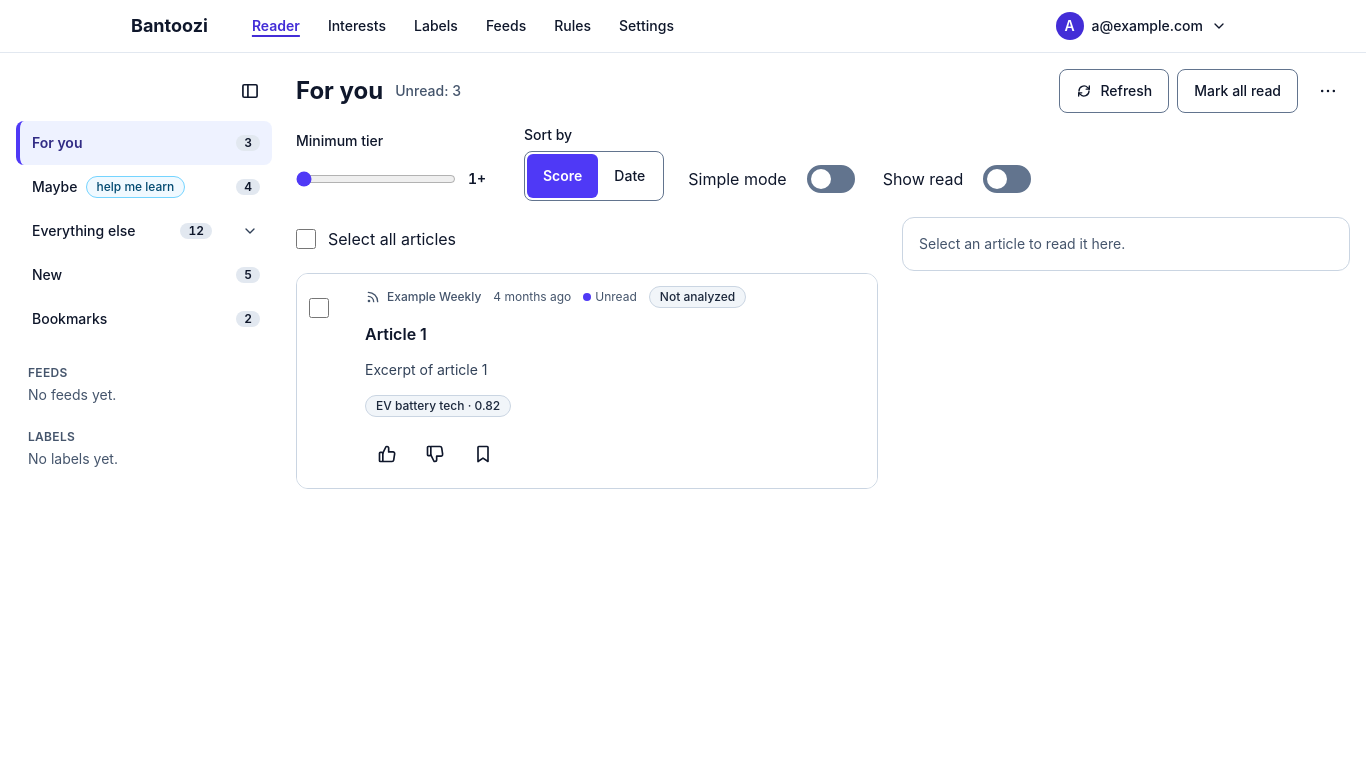
Test: Mark all read › does nothing when the reader cancels
Expected: the element "Article 1" is shown, [296,273,878,489]
Click the button "Mark all read" at (1238, 91), box [1177,69,1298,113]
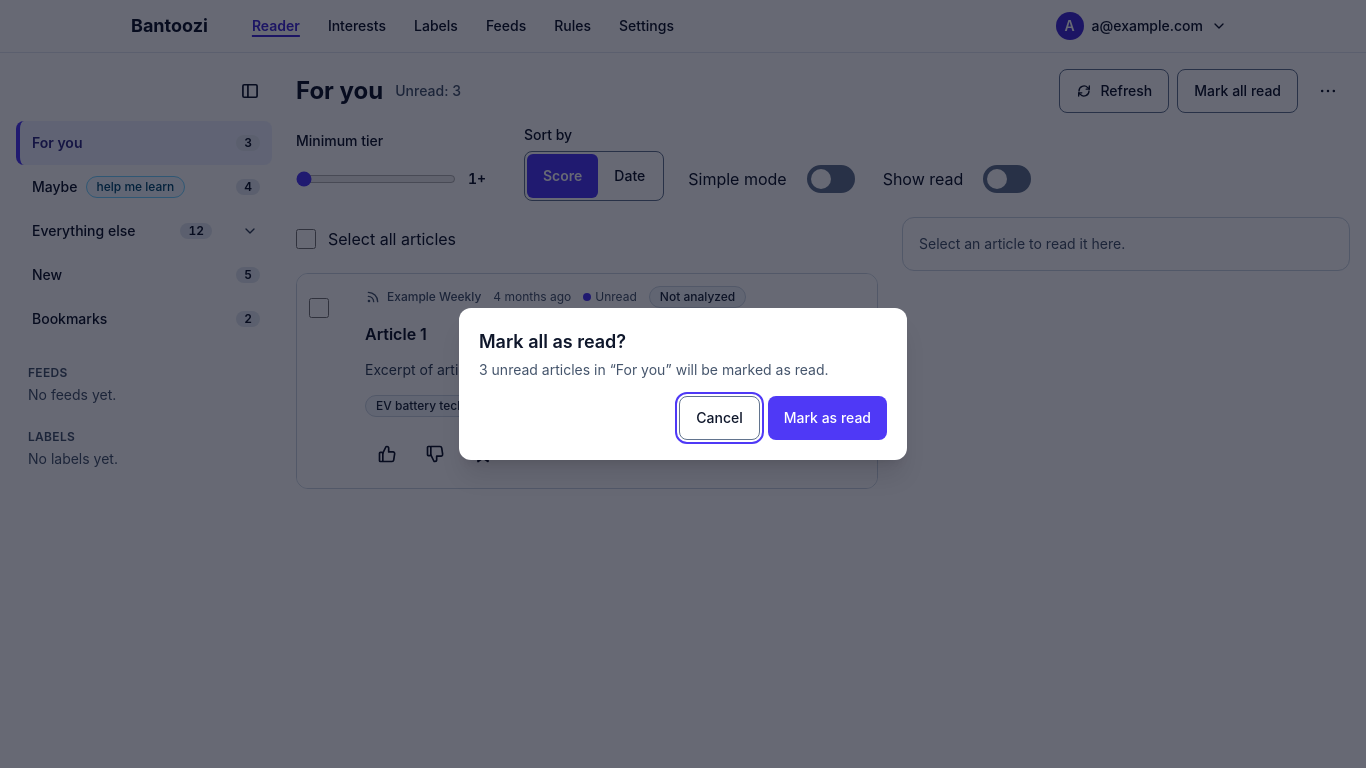
Click the button "Cancel" at (720, 418), box [679,396,760,440]
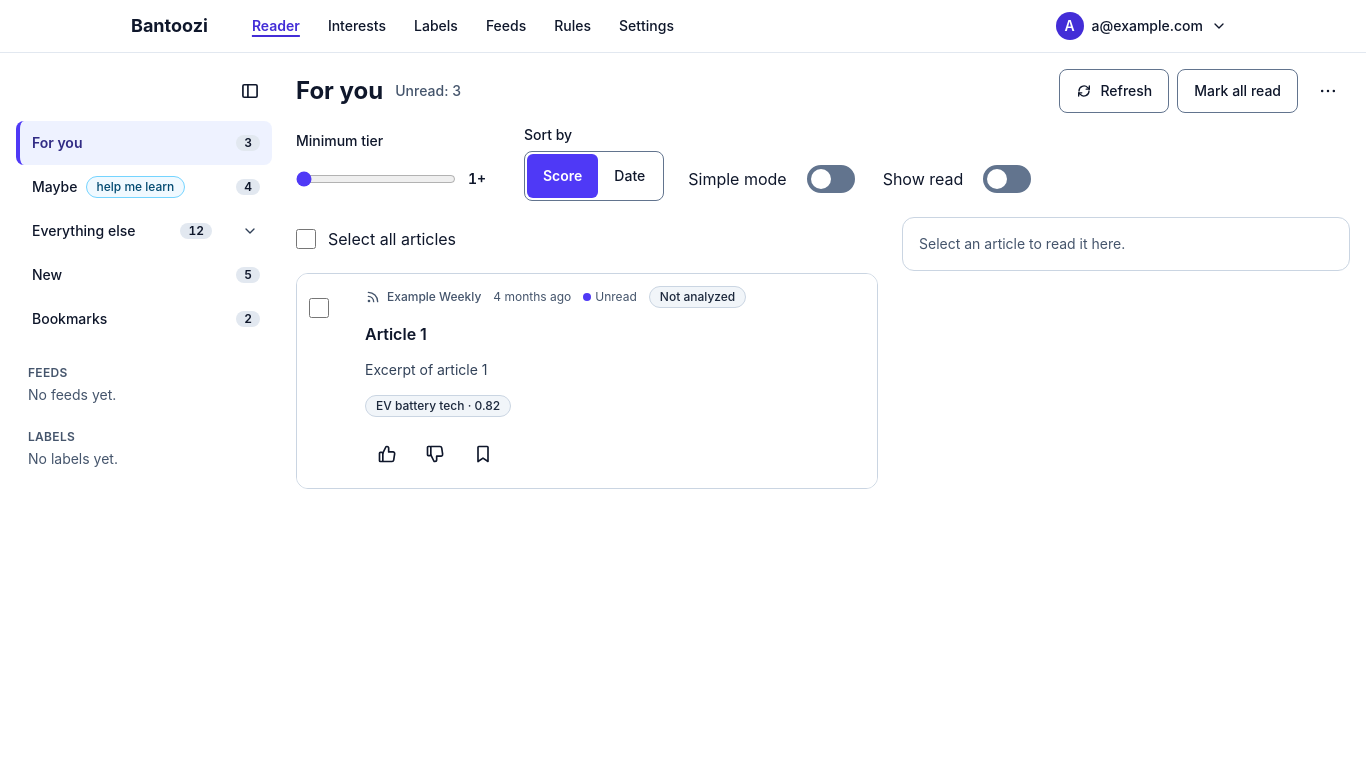
Expected: the dialog is gone
